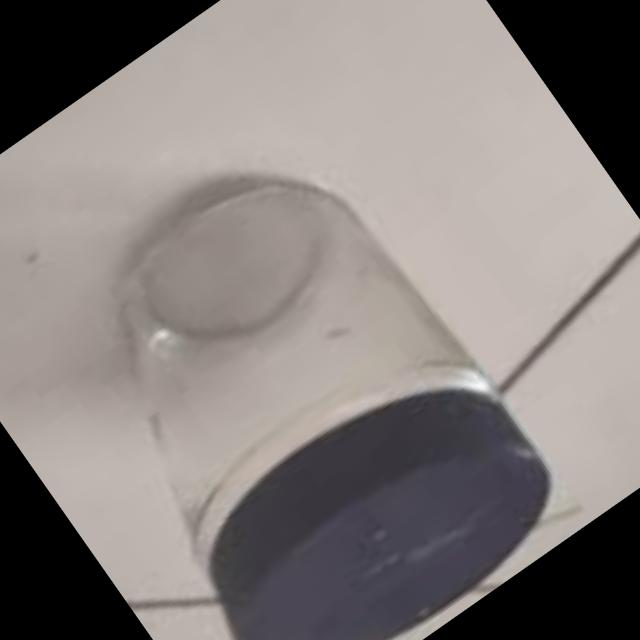ToplesKaca: (11, 116, 592, 640)
